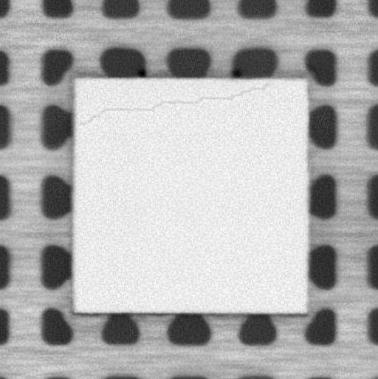DIE_CRACK: (78, 81, 272, 126)
